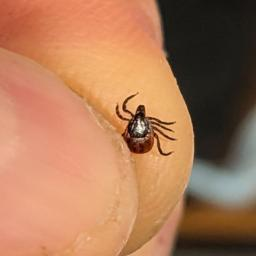Ixodes scapularis: (113, 92, 176, 157)
